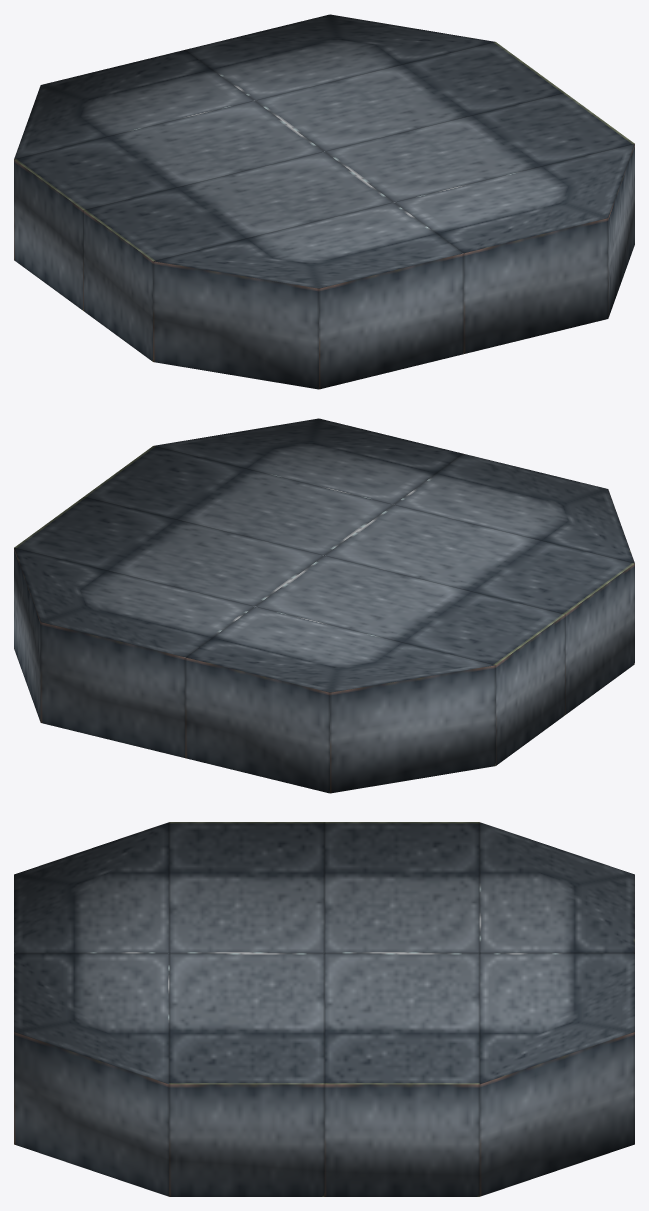
The picture shows the model from 3 angles, top to bottom: view 1: azimuth 30°, elevation 25°; view 2: azimuth 150°, elevation 25°; view 3: azimuth 270°, elevation 25°; orthographic projection. The views are drawn at different scales.
Parts seen in each view (by area): view 1: T1L8M005_4; view 2: T1L8M005_4; view 3: T1L8M005_4.
Part boxes in pixels (left/top/right/bottom): T1L8M005_4: left=14, top=14, right=634, bottom=389; T1L8M005_4: left=14, top=418, right=634, bottom=793; T1L8M005_4: left=14, top=822, right=634, bottom=1196.
Size of the model in its own units: 2 by 0.3994 by 2.
